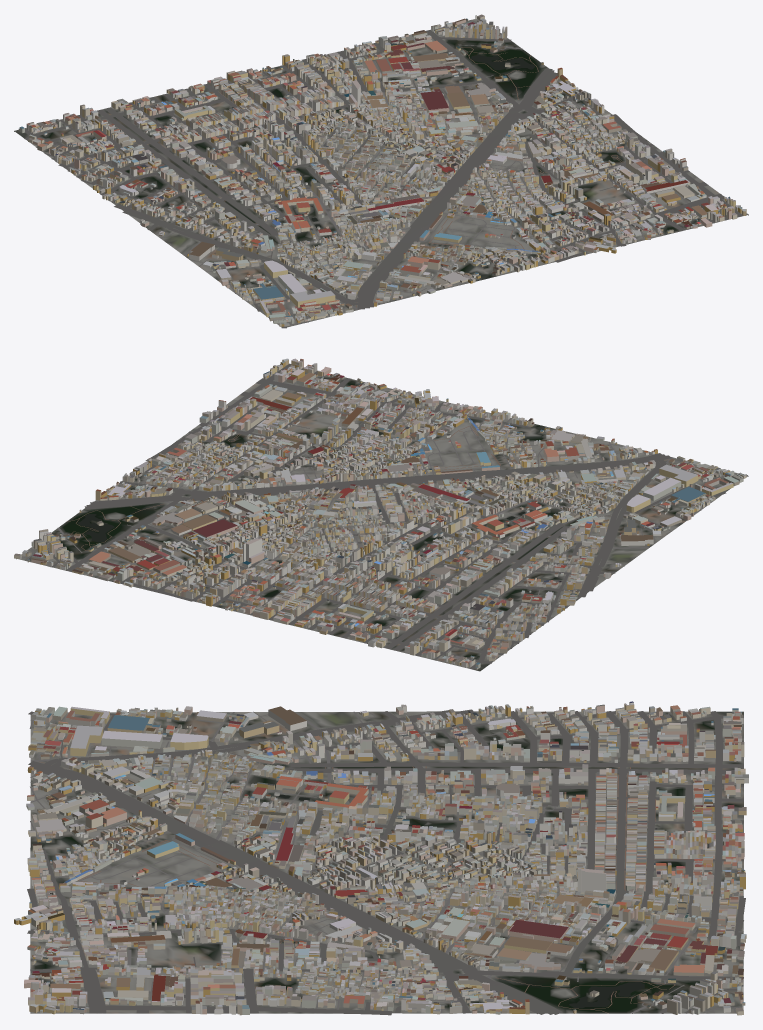
3 renders of one model, top to bottom at view 1: azimuth 30°, elevation 25°; view 2: azimuth 150°, elevation 25°; view 3: azimuth 270°, elevation 25°, orthographic. The views are drawn at different scales.
Visible parts, largest first — view 1: buildings, ground, roads, water; view 2: buildings, ground, roads, water; view 3: buildings, ground, roads, water.
Part boxes in pixels (x1=…): buildings: x1=18, y1=14, x2=746, y2=326; ground: x1=14, y1=19, x2=748, y2=327; roads: x1=24, y1=20, x2=743, y2=328; water: x1=311, y1=54, x2=535, y2=227; buildings: x1=14, y1=358, x2=746, y2=669; ground: x1=16, y1=365, x2=737, y2=671; roads: x1=22, y1=363, x2=748, y2=669; water: x1=78, y1=511, x2=525, y2=542; buildings: x1=14, y1=701, x2=748, y2=1015; ground: x1=30, y1=711, x2=743, y2=1013; roads: x1=27, y1=709, x2=745, y2=1015; water: x1=278, y1=794, x2=644, y2=1008.
Bounding box in the file's own units: 1419 × 59.76 × 1443.
